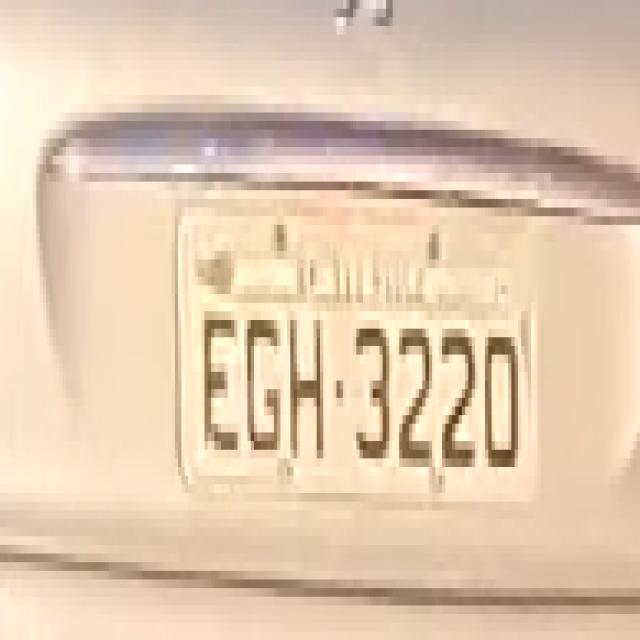Placa_mercosul_carro: (173, 195, 539, 505)
